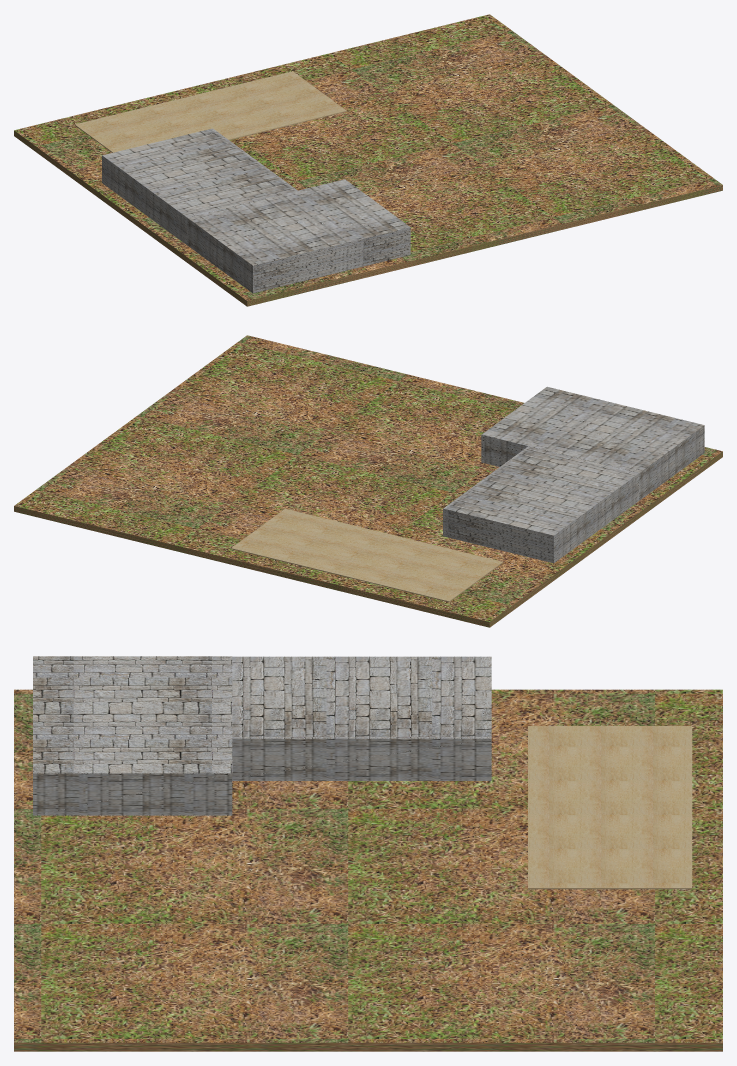
File: Hittites_Academy_onConstruction.fbx
The picture shows the model from 3 angles, top to bottom: view 1: azimuth 30°, elevation 25°; view 2: azimuth 150°, elevation 25°; view 3: azimuth 270°, elevation 25°; orthographic projection. The views are drawn at different scales.
Visible parts, largest first — view 1: Cube, Cube.001, Cube.002; view 2: Cube, Cube.001, Cube.002; view 3: Cube, Cube.001, Cube.002.
Part boxes in pixels (left/top/right/bottom): Cube: left=14, top=14, right=722, bottom=306; Cube.001: left=102, top=128, right=410, bottom=293; Cube.002: left=74, top=71, right=346, bottom=152; Cube: left=14, top=335, right=722, bottom=627; Cube.001: left=443, top=386, right=704, bottom=563; Cube.002: left=231, top=508, right=503, bottom=601; Cube: left=14, top=689, right=722, bottom=1051; Cube.001: left=33, top=656, right=491, bottom=815; Cube.002: left=528, top=726, right=692, bottom=889.
Size of the model in its own units: 1297 by 87.43 by 1101.
